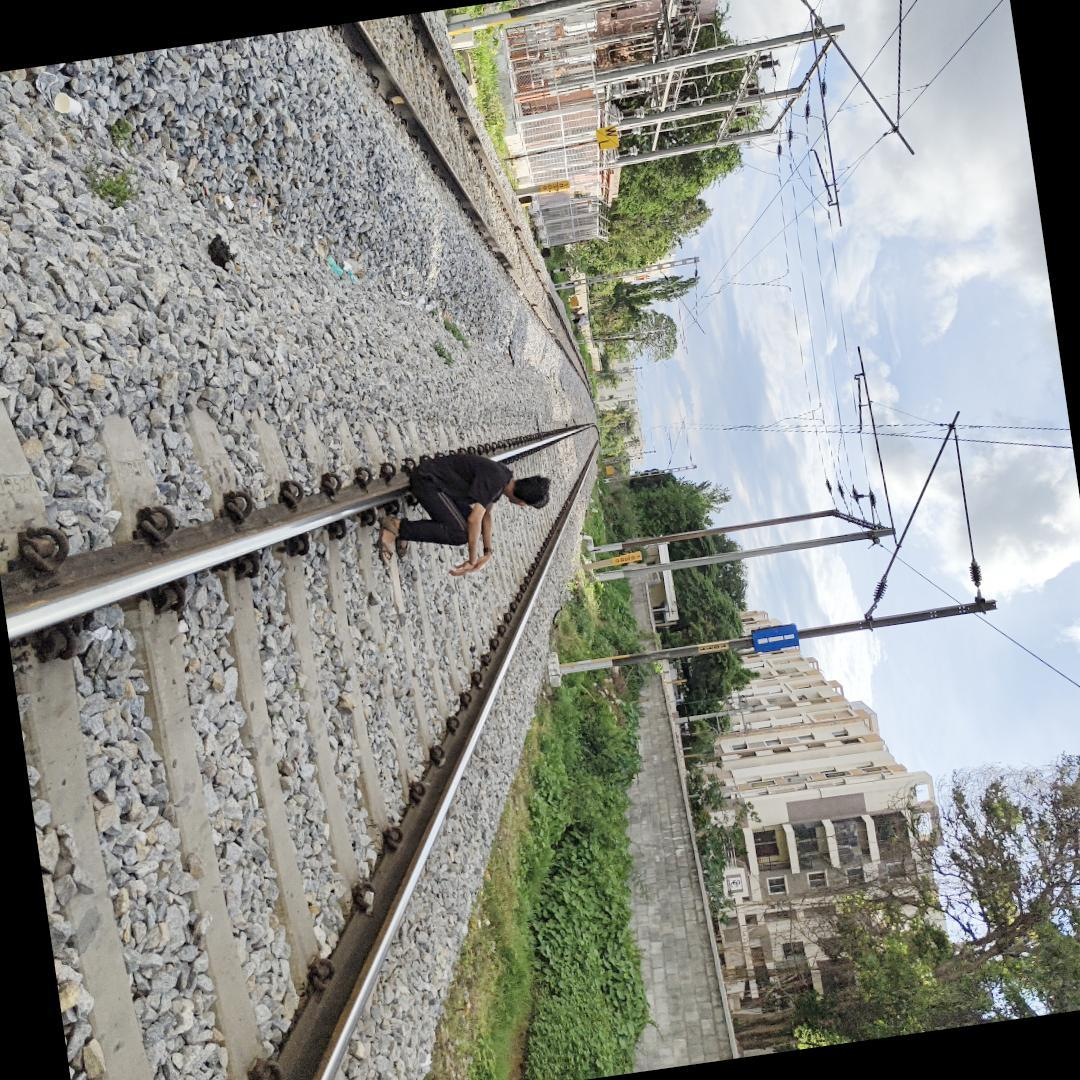sitting: (358, 424, 560, 584)
